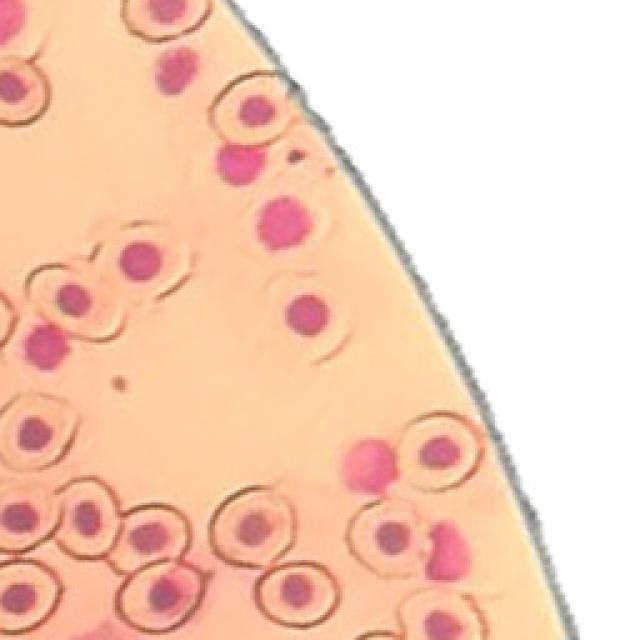RBC: (88, 218, 202, 301), (255, 269, 351, 365), (24, 264, 131, 342), (347, 499, 434, 581), (210, 486, 295, 568), (104, 500, 193, 578), (208, 71, 297, 148), (399, 412, 482, 491), (116, 560, 205, 632), (51, 476, 122, 562), (0, 394, 79, 470), (255, 561, 340, 628), (396, 586, 492, 640), (0, 559, 61, 634), (0, 479, 60, 555), (122, 0, 212, 41), (0, 58, 50, 125)
WBC: (344, 440, 398, 494), (258, 196, 312, 249), (426, 522, 471, 581), (25, 324, 70, 369), (156, 48, 198, 93), (218, 145, 265, 185), (0, 0, 25, 44)
